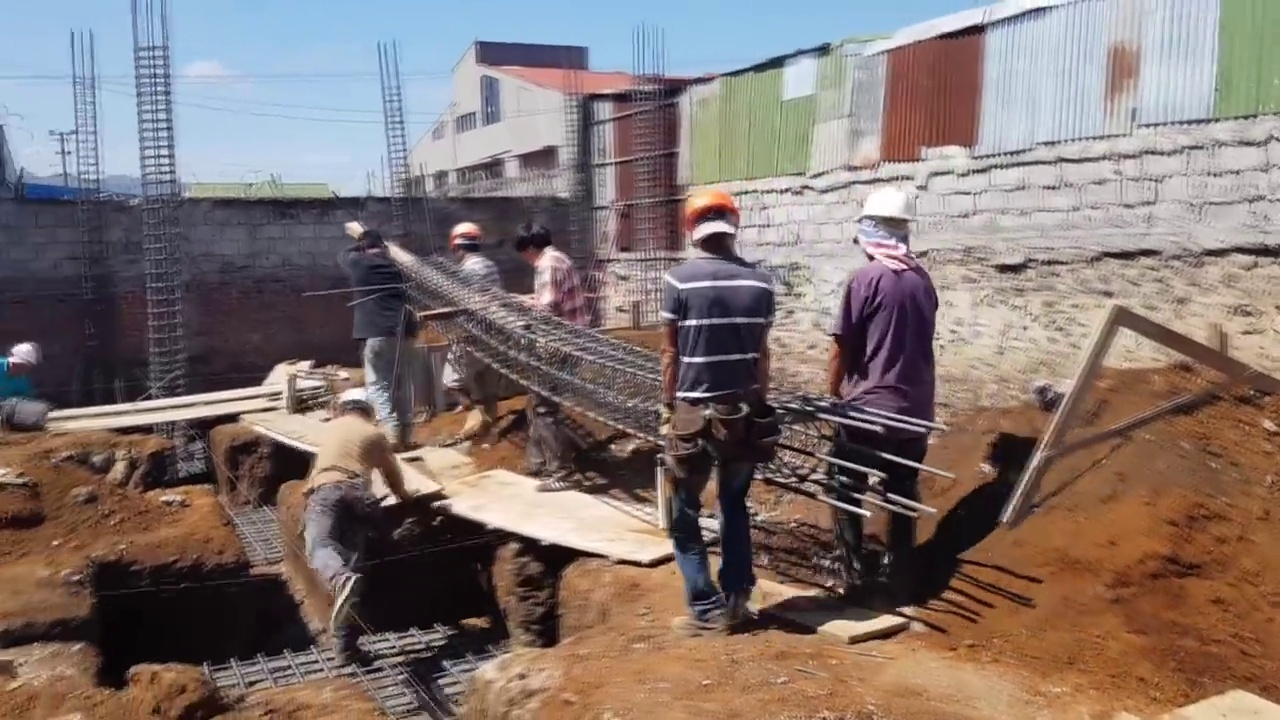helmet: (683, 185, 750, 238), (858, 190, 920, 239), (330, 387, 375, 415), (449, 220, 485, 250), (11, 342, 34, 371)
helmet-off: (508, 218, 550, 263), (358, 229, 383, 250)
helmet-on: (858, 186, 917, 269), (690, 190, 751, 252), (326, 388, 373, 434), (448, 218, 485, 261), (3, 344, 43, 383)
person: (809, 189, 953, 613), (654, 184, 778, 644), (294, 386, 416, 659), (504, 222, 591, 492), (343, 218, 425, 433), (438, 218, 501, 413), (3, 340, 45, 439)
